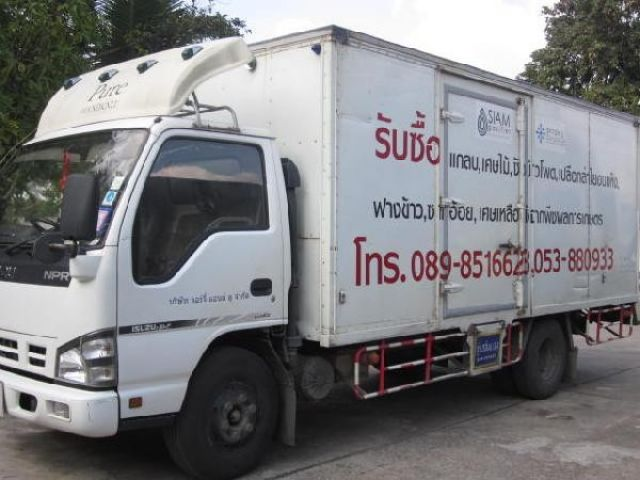truck: (2, 39, 289, 474)
